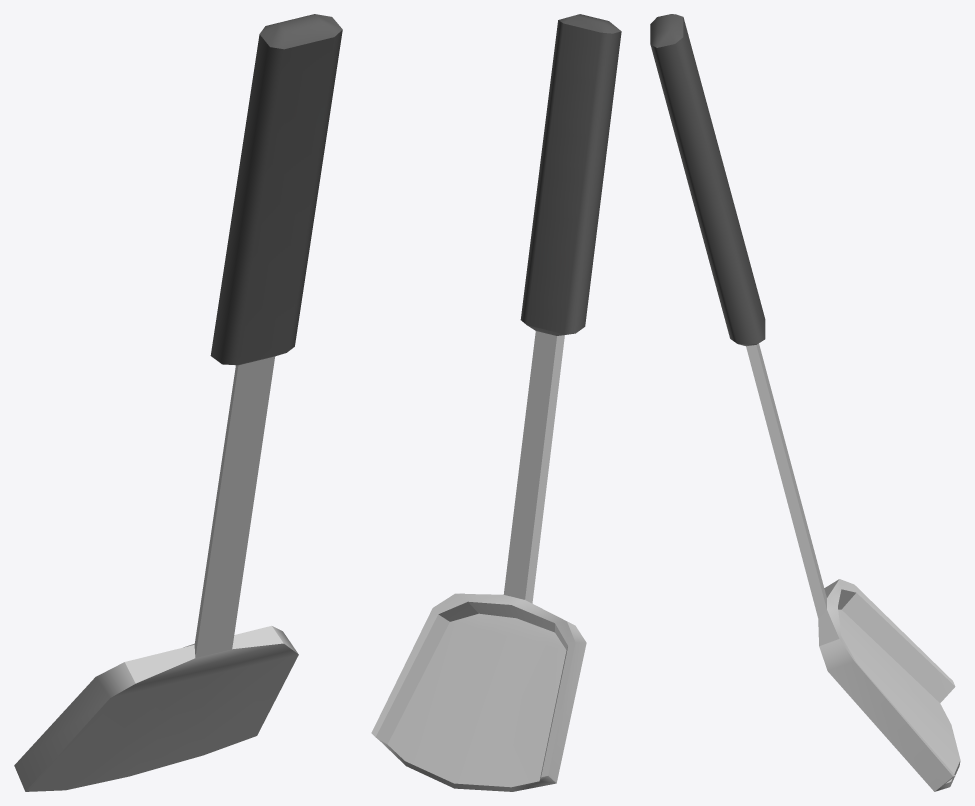
Rendered from SM_Kitchen_GuoChan.fbx.
The picture shows the model from 3 angles, left to right: view 1: azimuth 30°, elevation 25°; view 2: azimuth 150°, elevation 25°; view 3: azimuth 270°, elevation 25°; orthographic projection. The views are drawn at different scales.
Parts seen in each view (by area): view 1: SM_Kitchen_GuoChan; view 2: SM_Kitchen_GuoChan; view 3: SM_Kitchen_GuoChan.
Boxes of the visible parts, box(x1,y1,x2,y2) form: SM_Kitchen_GuoChan: box(14, 14, 342, 791); SM_Kitchen_GuoChan: box(371, 14, 621, 791); SM_Kitchen_GuoChan: box(650, 14, 960, 791).
Bounding box in the file's own units: 0.0877 × 0.3193 × 0.1208.
